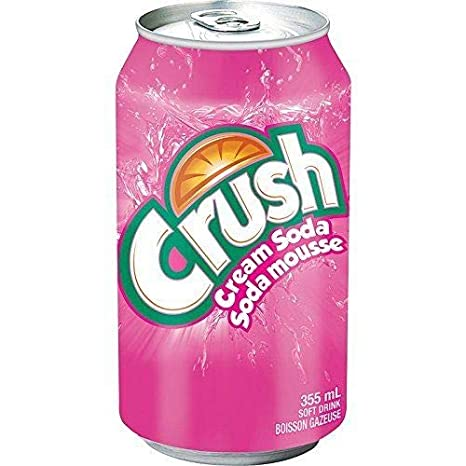can: (113, 1, 353, 466)
